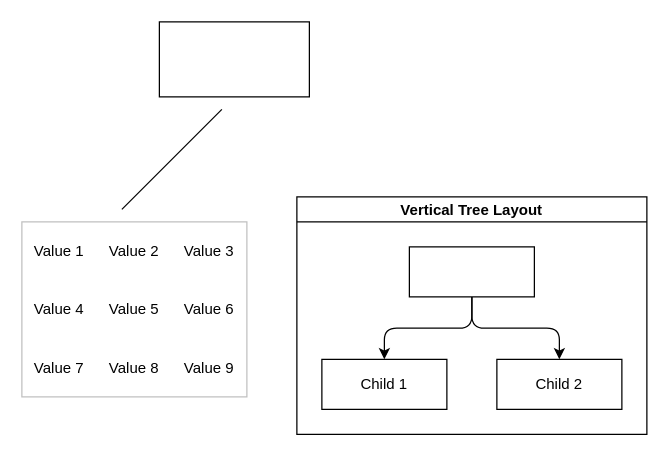
Some shapes in this 669 by 456 pixel diagram are drawn without their labels. Each missing label, with the centre of its shape:
Hello World: pixel 233 59
Root: pixel 471 271
